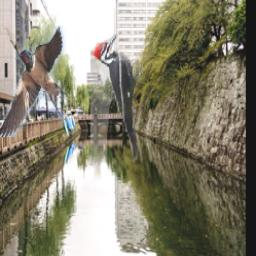Swallow: (0, 25, 75, 137)
Woodpecker: (92, 34, 144, 163)
